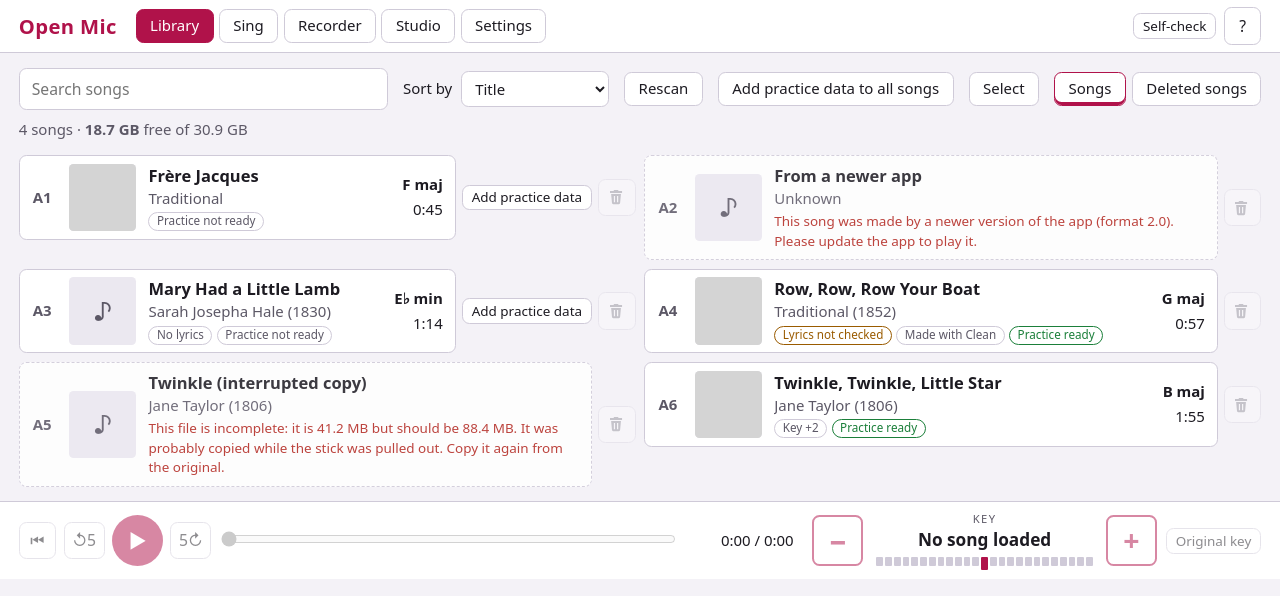
Test: functional UI on the mock › opens a song on the stage with its saved key
Click the button with class "title-strip" that starts with "Twinkle, Twinkle, Little Star". click: (729, 405)
box: x1=644 y1=362 x2=1218 y2=447
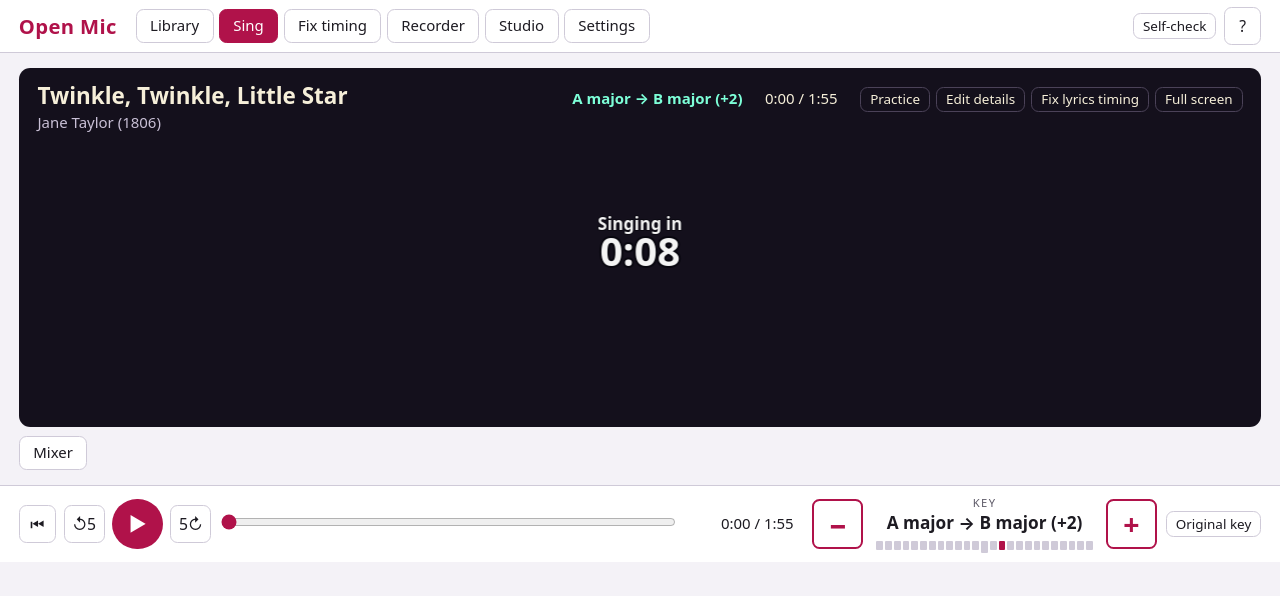
Check: the heading with class "stage__title" reads "Twinkle, Twinkle, Little Star", box x1=37 y1=80 x2=348 y2=111
Check: the text with class "key-control__label" reads "A major → B major (+2)", box x1=887 y1=511 x2=1082 y2=534
